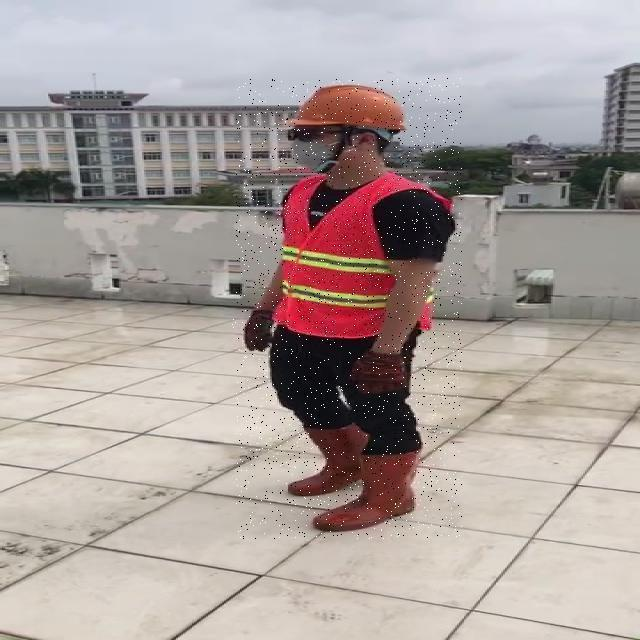gloves: (349, 351, 406, 396), (243, 309, 274, 353)
goggles: (285, 125, 349, 144)
helmet: (280, 83, 410, 131)
safety_vest: (275, 180, 446, 334)
